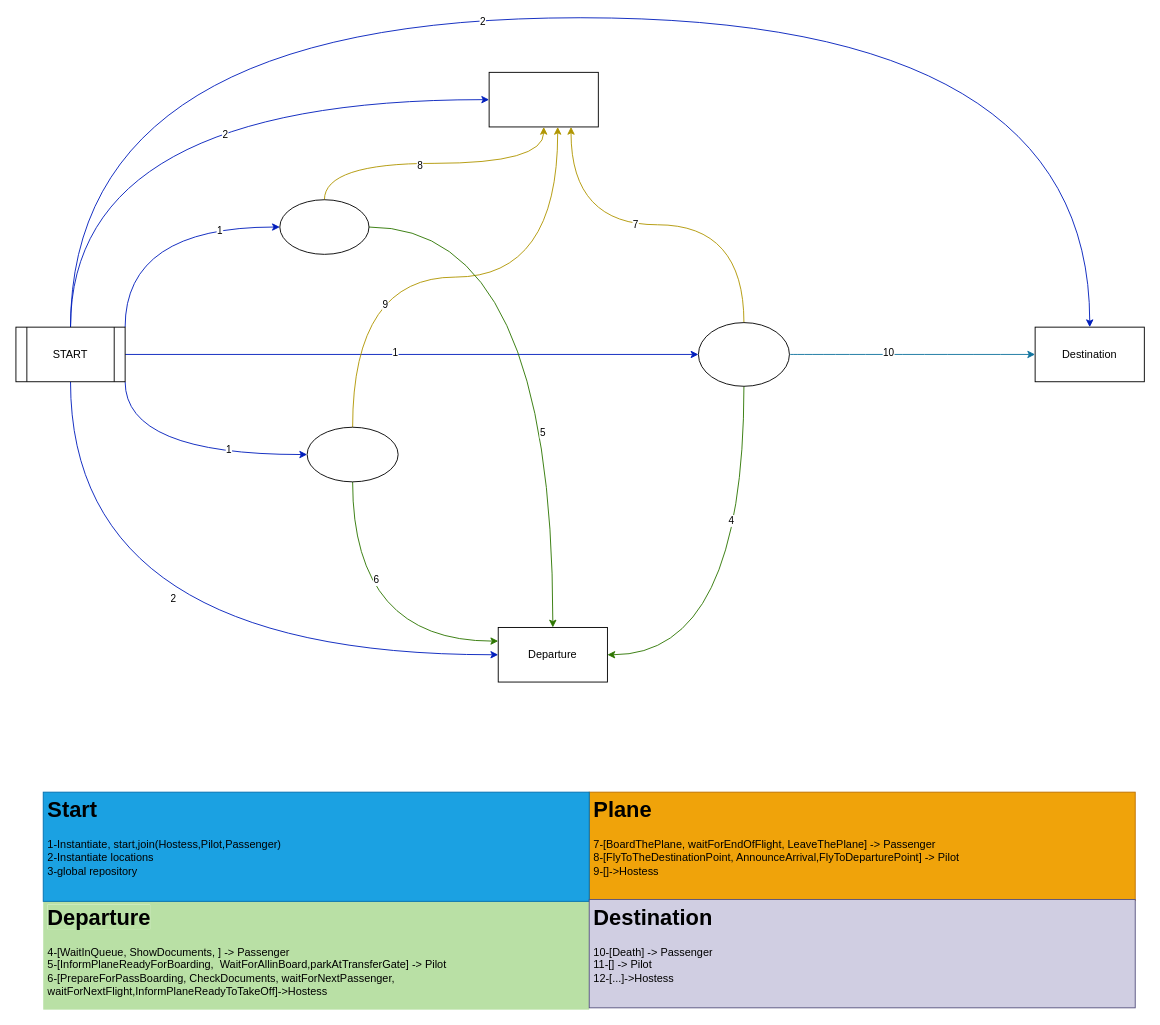
This 1160x1025 diagram has some shape labels left out. The shapes that lost their labels are listed below. From the top down, each one's box as (x1, y1, x2, y2) in pixels, then its label:
(488, 71, 598, 127): Plane
(279, 199, 369, 254): Pilot
(698, 322, 789, 386): Passenger
(306, 426, 398, 482): Hostess
